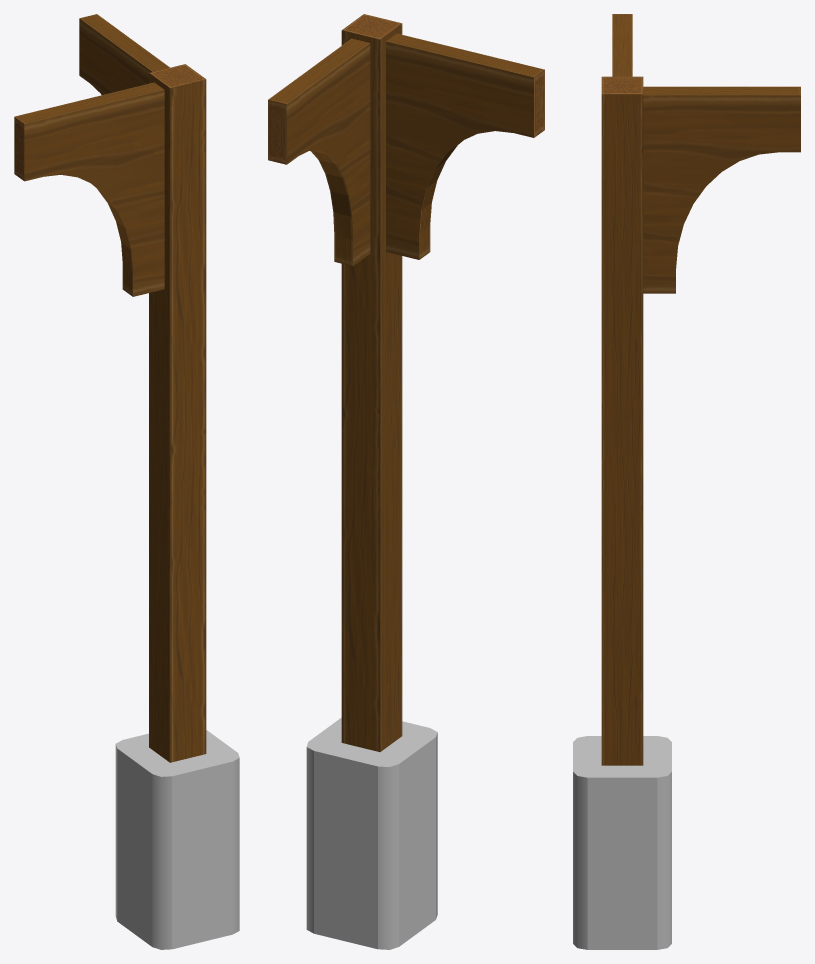
Rendered from SM_Pillar_Exterior_01_Corner.fbx.
The picture shows the model from 3 angles, left to right: view 1: azimuth 30°, elevation 25°; view 2: azimuth 150°, elevation 25°; view 3: azimuth 270°, elevation 25°; orthographic projection. The views are drawn at different scales.
Visible parts, largest first — view 1: SM_Pillar_Exterior_01_Corner; view 2: SM_Pillar_Exterior_01_Corner; view 3: SM_Pillar_Exterior_01_Corner.
Boxes of the visible parts, bbox=[...] form: SM_Pillar_Exterior_01_Corner: bbox=[14, 14, 239, 949]; SM_Pillar_Exterior_01_Corner: bbox=[268, 14, 544, 949]; SM_Pillar_Exterior_01_Corner: bbox=[573, 14, 800, 949].
Size of the model in its own units: 1.22 by 4.9 by 1.2.
